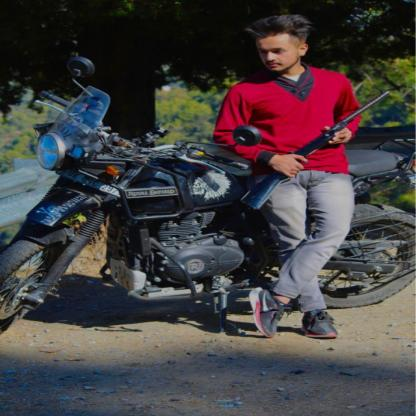rifle: (236, 90, 391, 212)
